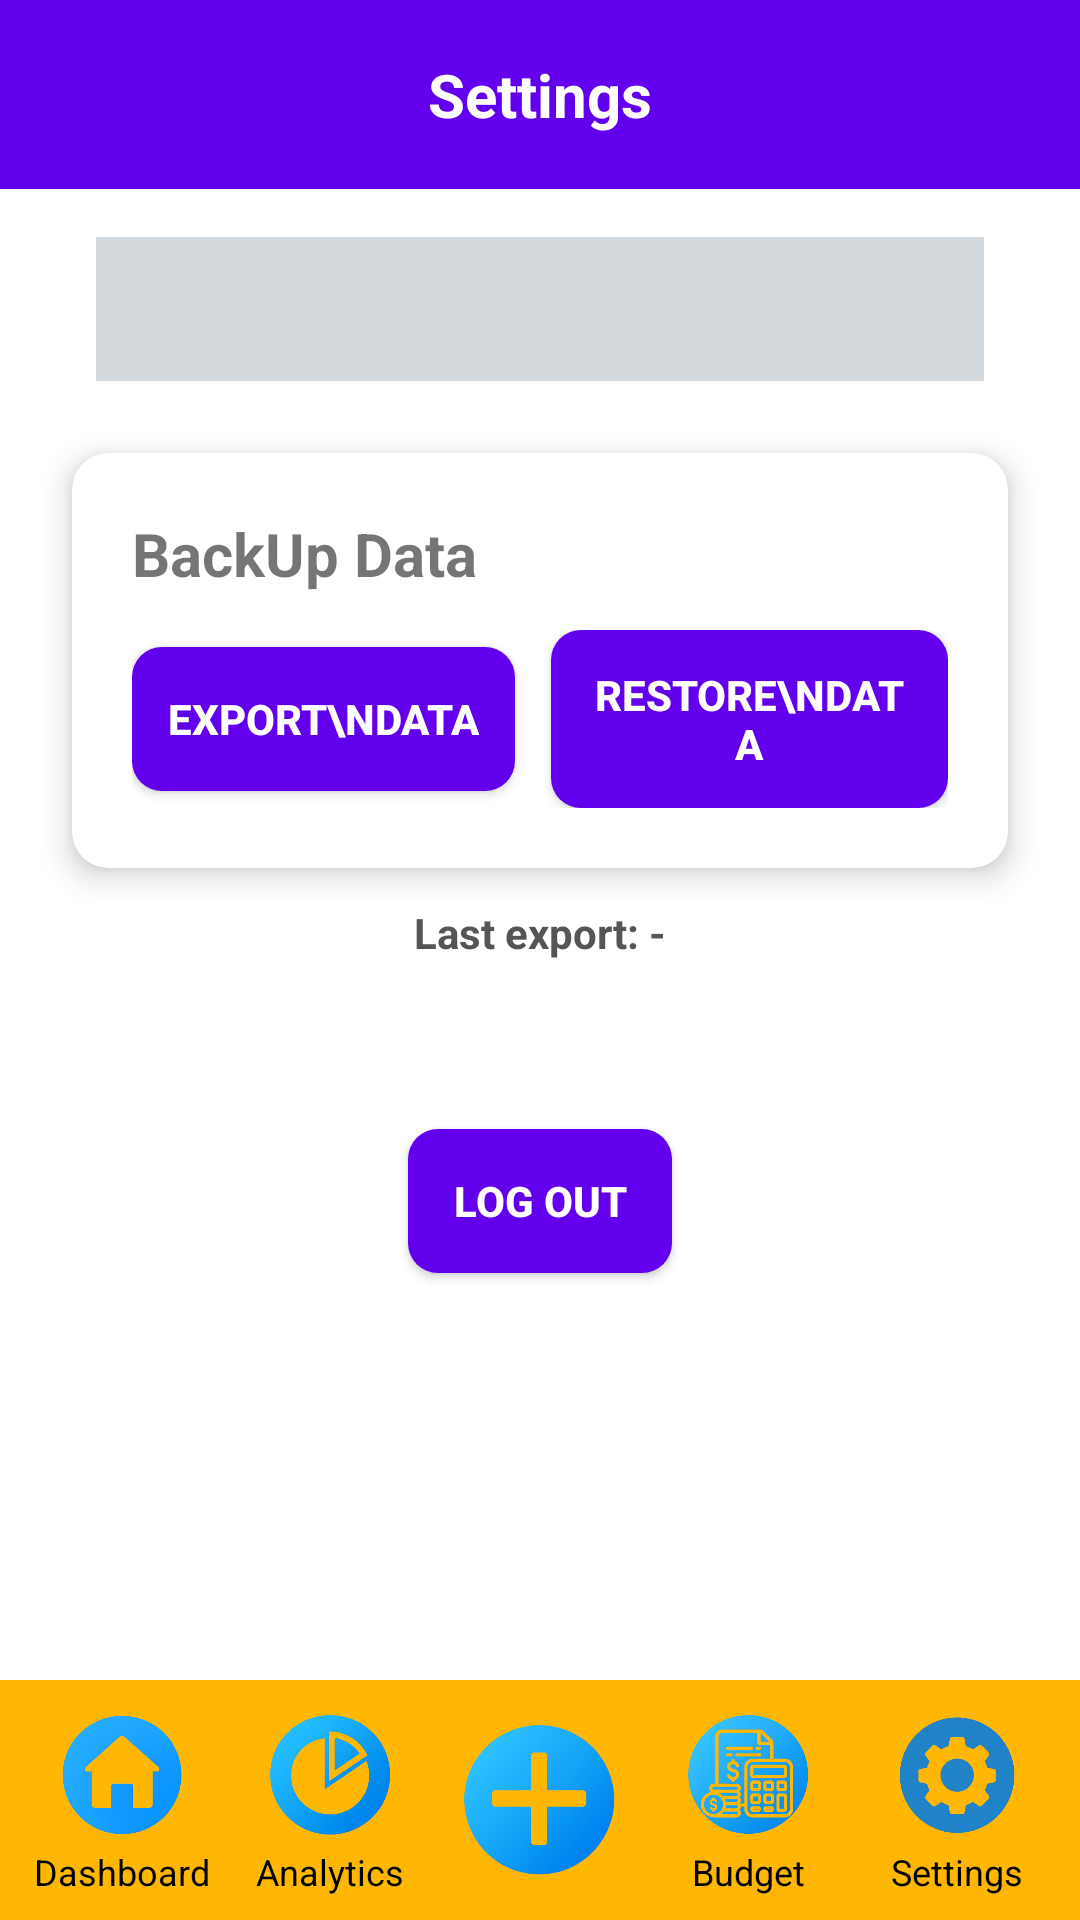

Icons on this 1080*1920 Android screen, each with the point to tap as (x,y):
Add: (539,1800)
Home: (122,1775)
